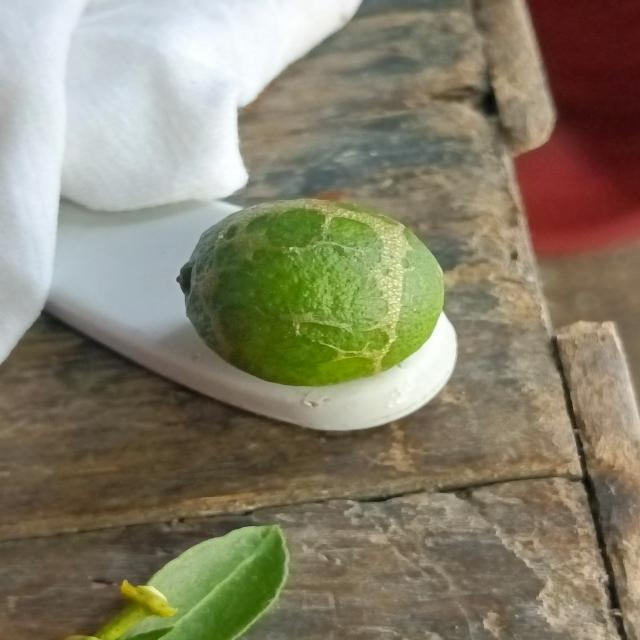thrips: (181, 186, 449, 382)
